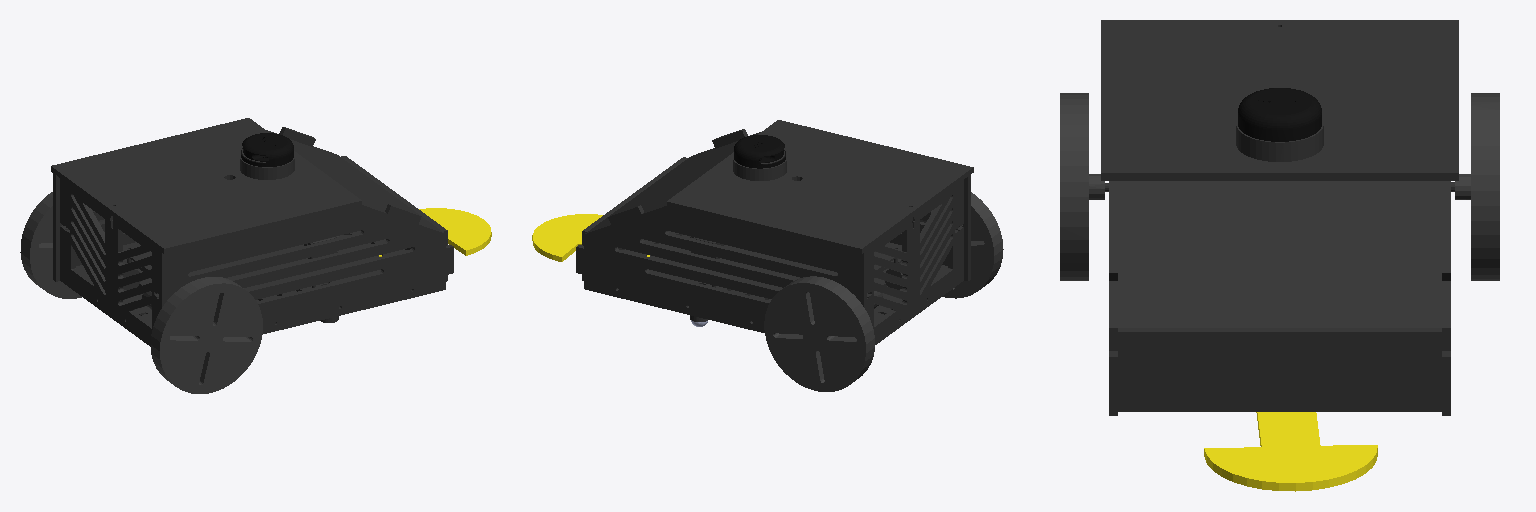
robot.urdf — metal_detector_bot:
<?xml version="1.0" encoding="utf-8"?>
<!-- This URDF was automatically created by SolidWorks to URDF Exporter! Originally created by [author] ([email redacted]) 
     Commit Version: 1.6.0-1-g15f4949  Build Version: 1.6.7594.29634
     For more information, please see http://wiki.ros.org/sw_urdf_exporter -->
<robot
  name="metal_detector_bot">

  <gazebo reference="base_link">
    <material>Gazebo/Black</material>
  </gazebo>
  <gazebo reference="Back_left_wheel_link">
    <material>Gazebo/Grey</material>
  </gazebo>
  <gazebo reference="Back_right_wheel_link">
    <material>Gazebo/Grey</material>
  </gazebo>
  <gazebo reference="Ball_caster_left_link">
    <material>Gazebo/Grey</material>
  </gazebo>
  <gazebo reference="Ball_caster_right_link">
    <material>Gazebo/Grey</material>
  </gazebo>
  <gazebo reference="Lidar_link">
    <material>Gazebo/Red</material>
  </gazebo>
  <gazebo reference="camera_link">
    <material>Gazebo/Blue</material>
  </gazebo>
  <gazebo reference="Metal_detector_arm_link">
    <material>Gazebo/Yellow</material>
  </gazebo>

  <link
    name="base_link">
    <inertial>
      <origin
        xyz="-0.0347999935098259 -6.89947447945739E-06 0.0611978124580679"
        rpy="0 0 0" />
      <mass
        value="5.0537397997941" />
      <inertia
        ixx="0.0260457662968351"
        ixy="7.59681021525889E-09"
        ixz="0.00128509047971936"
        iyy="0.0472700455360624"
        iyz="-1.51955689738117E-08"
        izz="0.066009599404551" />
    </inertial>
    <visual>
      <origin
        xyz="0 0 0"
        rpy="0 0 0" />
      <geometry>
        <mesh
          filename="package://metal_detector_bot/meshes/base_link.STL" />
      </geometry>
      <material
        name="">
        <color
          rgba="0.250980392156863 0.250980392156863 0.250980392156863 1" />
      </material>
    </visual>
    <collision>
      <origin
        xyz="0 0 0"
        rpy="0 0 0" />
      <geometry>
        <mesh
          filename="package://metal_detector_bot/meshes/base_link.STL" />
      </geometry>
    </collision>
  </link>
  <link
    name="right_wheel_link">
    <inertial>
      <origin
        xyz="-6.24500451351651E-17 -8.32667268468867E-17 0.0262587770530892"
        rpy="0 0 0" />
      <mass
        value="0.498305891901051" />
      <inertia
        ixx="0.000864068748819038"
        ixy="5.42101086242752E-20"
        ixz="-1.08309686688607E-19"
        iyy="0.000864068748819037"
        iyz="-1.48530139397129E-20"
        izz="0.00167126892614855" />
    </inertial>
    <visual>
      <origin
        xyz="0 0 0"
        rpy="3.142 0 0" />
      <geometry>
        <mesh
          filename="package://metal_detector_bot/meshes/Back_right_wheel_link.STL" />
      </geometry>
      <material
        name="">
        <color
          rgba="0.298039215686275 0.298039215686275 0.298039215686275 1" />
      </material>
    </visual>
    <collision>
      <origin
        xyz="0 0 0"
        rpy="0 0 0" />
      <geometry>
        <mesh
          filename="package://metal_detector_bot/meshes/Back_right_wheel_link.STL" />
      </geometry>
    </collision>
  </link>
  <joint
    name="right_wheel_joint"
    type="continuous">
    <origin
      xyz="-0.1766 -0.15065 0.019"
      rpy="1.5708 1.322 3.142" />
    <parent
      link="base_link" />
    <child
      link="right_wheel_link" />
    <axis
      xyz="0 0 1" />
  </joint>
  <link
    name="left_wheel_link">
    <inertial>
      <origin
        xyz="-1.04083408558608E-17 1.11022302462516E-16 0.0262587770530892"
        rpy="0 0 0" />
      <mass
        value="0.498305891901051" />
      <inertia
        ixx="0.000864068748819037"
        ixy="-4.06575814682064E-20"
        ixz="-8.85541641239117E-20"
        iyy="0.000864068748819037"
        iyz="3.33805728346288E-20"
        izz="0.00167126892614855" />
    </inertial>
    <visual>
      <origin
        xyz="0 0 0"
        rpy="0 0 0" />
      <geometry>
        <mesh
          filename="package://metal_detector_bot/meshes/Back_left_wheel_link.STL" />
      </geometry>
      <material
        name="">
        <color
          rgba="0.298039215686275 0.298039215686275 0.298039215686275 1" />
      </material>
    </visual>
    <collision>
      <origin
        xyz="0 0 0"
        rpy="0 0 0" />
      <geometry>
        <mesh
          filename="package://metal_detector_bot/meshes/Back_left_wheel_link.STL" />
      </geometry>
    </collision>
  </link>
  <joint
    name="left_wheel_joint"
    type="continuous">
    <origin
      xyz="-0.1766 0.15065 0.019"
      rpy="-1.5708 -1.3887 0" />
    <parent
      link="base_link" />
    <child
      link="left_wheel_link" />
    <axis
      xyz="0 0 1" />
  </joint>
  <link
    name="Lidar_link">
    <inertial>
      <origin
        xyz="-6.76253720088118E-05 0.01275824080203 -0.00287757147971467"
        rpy="0 0 0" />
      <mass
        value="0.0713753458662671" />
      <inertia
        ixx="2.28586554926571E-05"
        ixy="-6.49949025930931E-09"
        ixz="5.03942461290786E-08"
        iyy="4.25289503841649E-05"
        iyz="-3.25791967755998E-07"
        izz="2.32778173235724E-05" />
    </inertial>
    <visual>
      <origin
        xyz="0 0 0"
        rpy="1.5707 0 -1.5707" />
      <geometry>
        <mesh
          filename="package://metal_detector_bot/meshes/Lidar_link.STL" />
      </geometry>
      <material
        name="">
        <color
          rgba="0.109803921568627 0.109803921568627 0.109803921568627 1" />
      </material>
    </visual>
    <collision>
      <origin
        xyz="0 0 0"
        rpy="0 0 0" />
      <geometry>
        <mesh
          filename="package://metal_detector_bot/meshes/Lidar_link.STL" />
      </geometry>
    </collision>
  </link>
  <joint
    name="Lidar_joint"
    type="fixed">
    <origin
      xyz="0.0209 0 0.171"
      rpy="0 0 0" />
      <!--<origin
      xyz="0.0209 0 0.171"
      rpy="1.5708 0 1.5707" />-->
    <parent
      link="base_link" />
    <child
      link="Lidar_link" />
    <axis
      xyz="0 1 0" />
  </joint>
  <link
    name="Ball_caster_right_link">
    <inertial>
      <origin
        xyz="-1.38777878078145E-17 0 0.0125"
        rpy="0 0 0" />
      <mass
        value="0.00818123086872342" />
      <inertia
        ixx="5.11326929295214E-07"
        ixy="0"
        ixz="-4.77927573339736E-55"
        iyy="5.11326929295214E-07"
        iyz="-1.06121239205001E-70"
        izz="5.11326929295214E-07" />
    </inertial>
    <visual>
      <origin
        xyz="0 0 0"
        rpy="0 0 0" />
      <geometry>
        <mesh
          filename="package://metal_detector_bot/meshes/Ball_caster_right_link.STL" />
      </geometry>
      <material
        name="">
        <color
          rgba="0.792156862745098 0.819607843137255 0.933333333333333 1" />
      </material>
    </visual>
    <collision>
      <origin
        xyz="0 0 0"
        rpy="0 0 0" />
      <geometry>
        <mesh
          filename="package://metal_detector_bot/meshes/Ball_caster_right_link.STL" />
      </geometry>
    </collision>
  </link>
  <joint
    name="Ball_caster_right_joint"
    type="continuous">
    <origin
      xyz="0.06543 -0.07735 -0.04811"
      rpy="1.5708 0 0" />
    <parent
      link="base_link" />
    <child
      link="Ball_caster_right_link" />
    <axis
      xyz="0 0 1" />
  </joint>
  <link
    name="Ball_caster_left_link">
    <inertial>
      <origin
        xyz="-1.38777878078145E-17 0 -0.0125"
        rpy="0 0 0" />
      <mass
        value="0.00818123086872342" />
      <inertia
        ixx="5.11326929295214E-07"
        ixy="0"
        ixz="-4.77927573339736E-55"
        iyy="5.11326929295214E-07"
        iyz="-1.06121239205001E-70"
        izz="5.11326929295214E-07" />
    </inertial>
    <visual>
      <origin
        xyz="0 0 0"
        rpy="0 0 0" />
      <geometry>
        <mesh
          filename="package://metal_detector_bot/meshes/Ball_caster_left_link.STL" />
      </geometry>
      <material
        name="">
        <color
          rgba="0.792156862745098 0.819607843137255 0.933333333333333 1" />
      </material>
    </visual>
    <collision>
      <origin
        xyz="0 0 0"
        rpy="0 0 0" />
      <geometry>
        <mesh
          filename="package://metal_detector_bot/meshes/Ball_caster_left_link.STL" />
      </geometry>
    </collision>
  </link>
  <joint
    name="Ball_caster_left_joint"
    type="continuous">
    <origin
      xyz="0.06543 0.07735 -0.04811"
      rpy="1.5708 0 0" />
    <parent
      link="base_link" />
    <child
      link="Ball_caster_left_link" />
    <axis
      xyz="0 0 1" />
  </joint>
  <link
    name="Metal_detector_arm_link">
    <inertial>
      <origin
        xyz="-0.140649491426954 -0.00399999999999998 -1.56125112837913E-17"
        rpy="0 0 0" />
      <mass
        value="0.180271479688744" />
      <inertia
        ixx="0.000140221478425327"
        ixy="1.36695187245774E-19"
        ixz="-2.12605269760829E-19"
        iyy="0.00124414564889824"
        iyz="-1.04523095414835E-20"
        izz="0.00110584706625626" />
    </inertial>
    <visual>
      <origin
        xyz="0 0 0"
        rpy="0 0 0" />
      <geometry>
        <mesh
          filename="package://metal_detector_bot/meshes/Metal_detector_arm_link.STL" />
      </geometry>
      <material
        name="">
        <color
          rgba="1 0.937254901960784 0.137254901960784 1" />
      </material>
    </visual>
    <collision>
      <origin
        xyz="0 0 0"
        rpy="0 0 0" />
      <geometry>
        <mesh
          filename="package://metal_detector_bot/meshes/Metal_detector_arm_link.STL" />
      </geometry>
    </collision>
  </link>
  <joint
    name="Metal_detector_plate_joint"
    type="continuous">
    <origin
      xyz="0.11465 0.00025000000000001 -0.00924999999999999"
      rpy="1.5707963267949 0 -3.08892219013656" />
    <parent
      link="base_link" />
    <child
      link="Metal_detector_arm_link" />
    <axis
      xyz="0 1 0" />
  </joint>



   <!--The LIDAR plugin has been inserted by [author] from the website-->
  <!--https://classic.gazebosim.org/tutorials?tut=ros_gzplugins-->
  <!--Adding LIDAR Sensor to the Robot-->
  <!-- hokuyo -->
  <gazebo reference="Lidar_link">
    <sensor type="ray" name="head_hokuyo_sensor">
      <pose>0 0 0 0 0 0</pose>
      <visualize>true</visualize>
      <update_rate>40</update_rate>
      <ray>
        <scan>
          <horizontal>
            <samples>720</samples>
            <resolution>1</resolution>
            <min_angle>-1.570796</min_angle>
            <max_angle>1.570796</max_angle>
          </horizontal>
        </scan>
        <range>
          <min>0.10</min>
          <max>30.0</max>
          <resolution>0.01</resolution>
        </range>
        <noise>
          <type>gaussian</type>
          <!-- Noise parameters based on published spec for Hokuyo laser
               achieving "+-30mm" accuracy at range < 10m.  A mean of 0.0m and
               stddev of 0.01m will put 99.7% of samples within 0.03m of the true
               reading. -->
          <mean>0.0</mean>
          <stddev>0.001</stddev>
        </noise>
      </ray>
      <plugin name="gazebo_ros_head_hokuyo_controller" filename="libgazebo_ros_laser.so">
        <topicName>/scan</topicName>
        <frameName>Lidar_link</frameName>
      </plugin>
    </sensor>
  </gazebo>

  <!--Differential drive plugin inserted by [author]-->
  <!-- This is necessary to move the robot using cmd_vel -->
  <!-- The plugin is taken from the website -->
  <!-- https://kiranpalla.com/autonomous-navigation-ros-differential-drive-robot-simulation/simple-navigation-with-differential-drive-plugin/ -->

  <gazebo>
    <plugin name="differential_drive_controller" filename="libgazebo_ros_diff_drive.so">
      <alwaysOn>true</alwaysOn>
      <legacyMode>false</legacyMode>
      <updateRate>40</updateRate>
      <leftJoint>Back_left_wheel_joint</leftJoint>
      <rightJoint>Back_right_wheel_joint</rightJoint>
      <wheelSeparation>0.2794</wheelSeparation>
      <wheelDiameter>0.1524</wheelDiameter>
      <torque>20</torque>
      <wheelTorque>5</wheelTorque>
      <wheelAcceleration>1.0</wheelAcceleration>
      <commandTopic>/cmd_vel</commandTopic>
      <odometryTopic>/odom</odometryTopic>
      <odometryFrame>odom</odometryFrame>
      <robotBaseFrame>base_link</robotBaseFrame>
      <!-- <publishWheelTF>true</publishWheelTF> -->
      <publishOdomTF>false</publishOdomTF>
      <publishWheelJointState>false</publishWheelJointState>
 
    </plugin>

   <plugin name="gazebo_ros_control" filename="libgazebo_ros_contol.so">
        <!-- <robotNamespace>/</robotNamespace> -->
   </plugin>

   <!--<plugin name="joint_state_publisher" filename="libgazebo_ros_joint_state_publisher.so">
     <jointName> Ball_caster_left_joint , Ball_caster_right_joint, Metal_detector_plate_joint
      </jointName>
   </plugin>-->

  </gazebo>

</robot>

--- Render facts (derived) ---
3 views of the same robot in one strip: view 1: azimuth 30°, elevation 25°; view 2: azimuth 150°, elevation 25°; view 3: azimuth 270°, elevation 25° (orthographic).
Model metal_detector_bot with 7 links and 6 joints (5 continuous, 1 fixed), rooted at base_link, posed every joint at zero.
Links seen in each view (by area): view 1: base_link, right_wheel_link, left_wheel_link, Metal_detector_arm_link, Lidar_link; view 2: base_link, left_wheel_link, right_wheel_link, Metal_detector_arm_link, Lidar_link; view 3: base_link, Metal_detector_arm_link, right_wheel_link, left_wheel_link, Lidar_link.
Boxes of the visible links, x1=… form: base_link: x1=51, y1=118, x2=453, y2=346; right_wheel_link: x1=150, y1=277, x2=262, y2=393; left_wheel_link: x1=20, y1=192, x2=104, y2=298; Metal_detector_arm_link: x1=379, y1=208, x2=491, y2=256; Lidar_link: x1=241, y1=133, x2=293, y2=166; base_link: x1=576, y1=120, x2=973, y2=344; left_wheel_link: x1=764, y1=276, x2=874, y2=391; right_wheel_link: x1=920, y1=192, x2=1003, y2=298; Metal_detector_arm_link: x1=532, y1=214, x2=649, y2=261; Lidar_link: x1=734, y1=135, x2=785, y2=168; base_link: x1=1101, y1=20, x2=1458, y2=415; Metal_detector_arm_link: x1=1204, y1=412, x2=1377, y2=491; right_wheel_link: x1=1060, y1=93, x2=1104, y2=280; left_wheel_link: x1=1455, y1=93, x2=1499, y2=280; Lidar_link: x1=1238, y1=88, x2=1321, y2=141.
Bounding box of the posed robot: 0.6249 × 0.3796 × 0.2547 m (x, y, z).
7 mesh visuals loaded from 7 distinct referenced files (7 binary STL).
